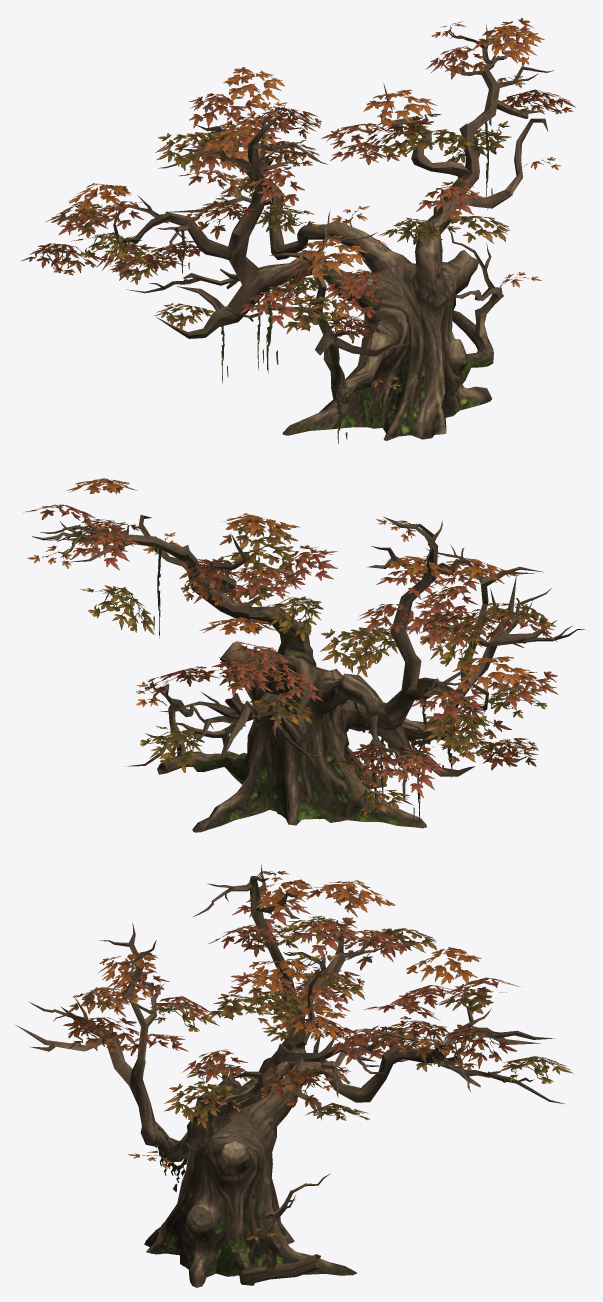
3 renders of one model, top to bottom at view 1: azimuth 30°, elevation 25°; view 2: azimuth 150°, elevation 25°; view 3: azimuth 270°, elevation 25°, orthographic. The views are drawn at different scales.
Parts seen in each view (by area): view 1: 4007; view 2: 4007; view 3: 4007.
Part boxes in pixels (x1,y1,x2,y2): 4007: (20, 18, 575, 444); 4007: (23, 478, 588, 832); 4007: (16, 864, 573, 1287).
Bounding box in the file's own units: 1070 × 616 × 990.
